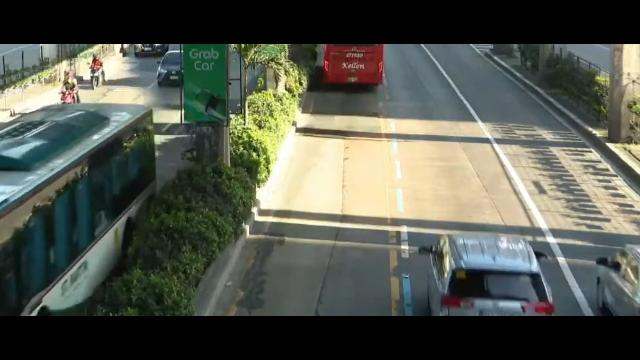bus: (0, 98, 157, 315), (321, 45, 384, 90)
car: (418, 232, 559, 316), (157, 50, 182, 85)
motorcycle: (59, 67, 81, 107), (90, 52, 106, 90)
